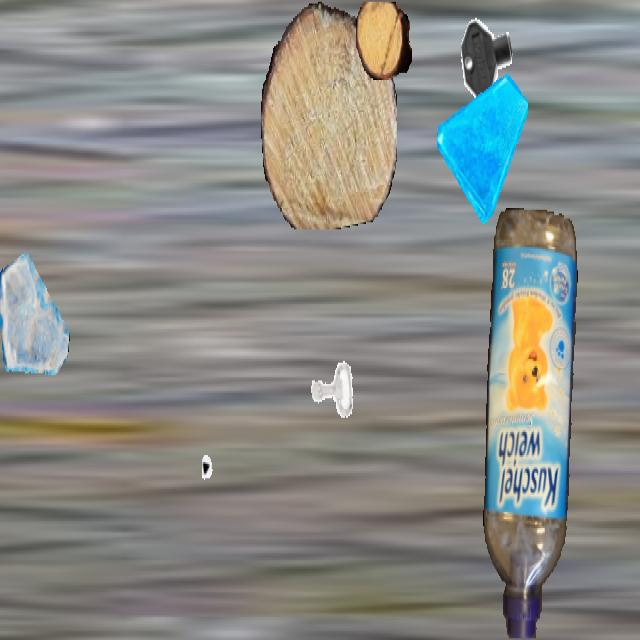glass: (437, 62, 527, 222), (0, 247, 70, 379)
metal: (202, 423, 264, 533), (457, 2, 519, 112), (305, 343, 357, 436)
plastic: (482, 208, 580, 638)
wood: (261, 2, 397, 229), (356, 2, 412, 80)
